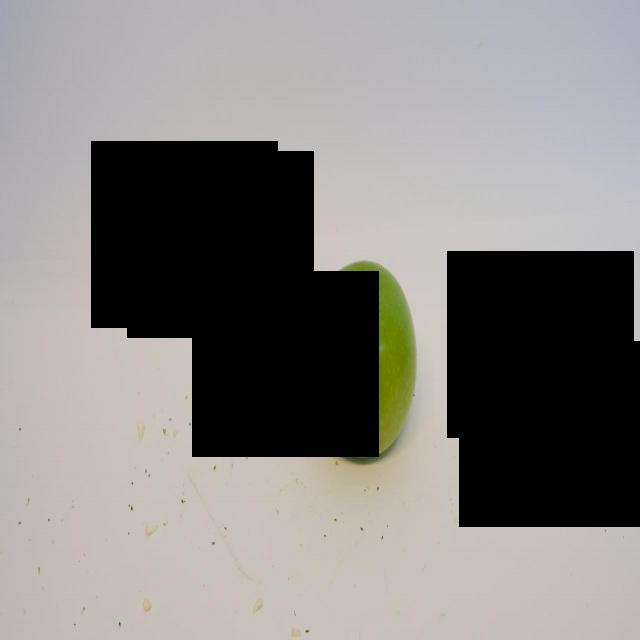apple: (308, 263, 417, 461)
